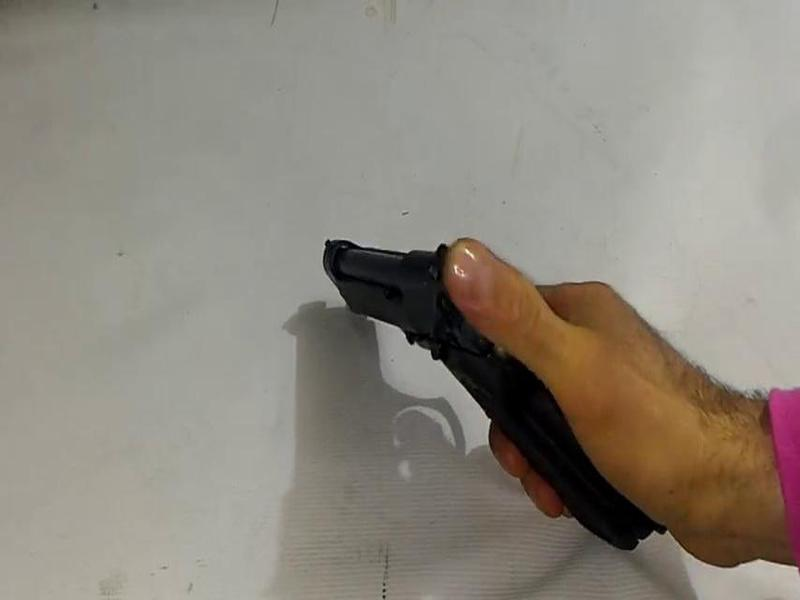Pistola: (297, 189, 699, 585)
